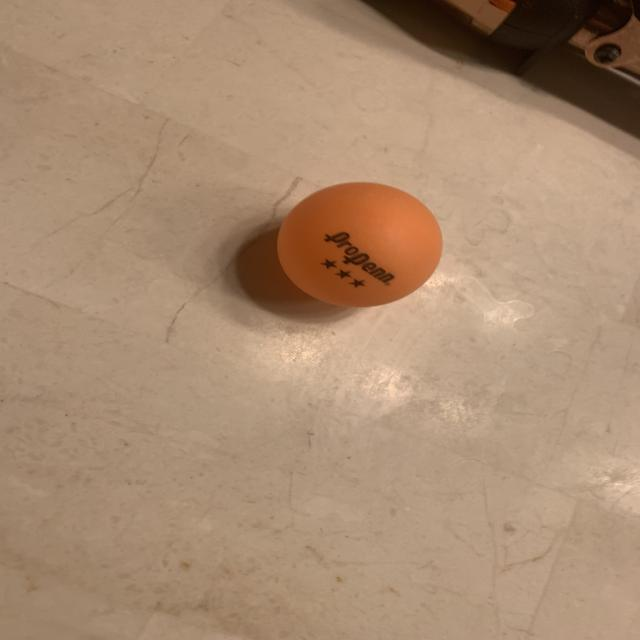ping-pong-ball: (269, 170, 454, 315)
